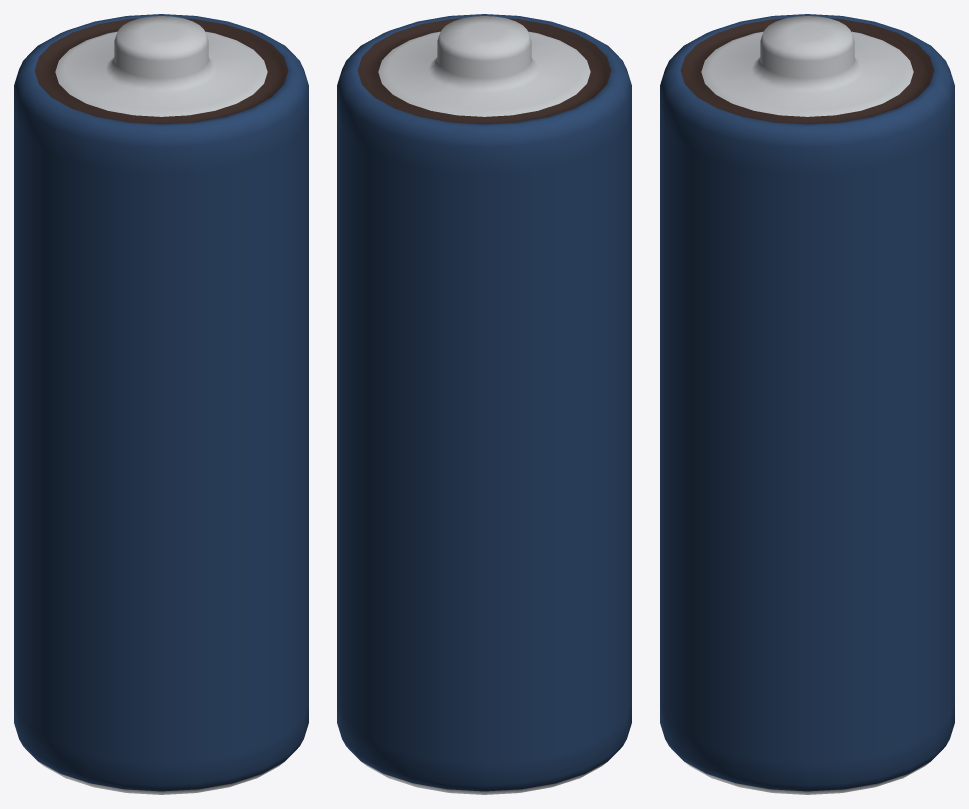
Rendered from A-NEW-20261027-BATTERY_CELL-001_LOD2_R1.glb.
The picture shows the model from 3 angles, left to right: view 1: azimuth 30°, elevation 25°; view 2: azimuth 150°, elevation 25°; view 3: azimuth 270°, elevation 25°; orthographic projection.
Parts seen in each view (by area): view 1: original cylindrical cell with integrated terminal and insul; view 2: original cylindrical cell with integrated terminal and insul; view 3: original cylindrical cell with integrated terminal and insul.
Part boxes in pixels (x1,y1,x2,y2): original cylindrical cell with integrated terminal and insul: [14, 14, 308, 794]; original cylindrical cell with integrated terminal and insul: [337, 14, 631, 794]; original cylindrical cell with integrated terminal and insul: [660, 14, 954, 794].
Bounding box in the file's own units: 0.02 × 0.053 × 0.02.
